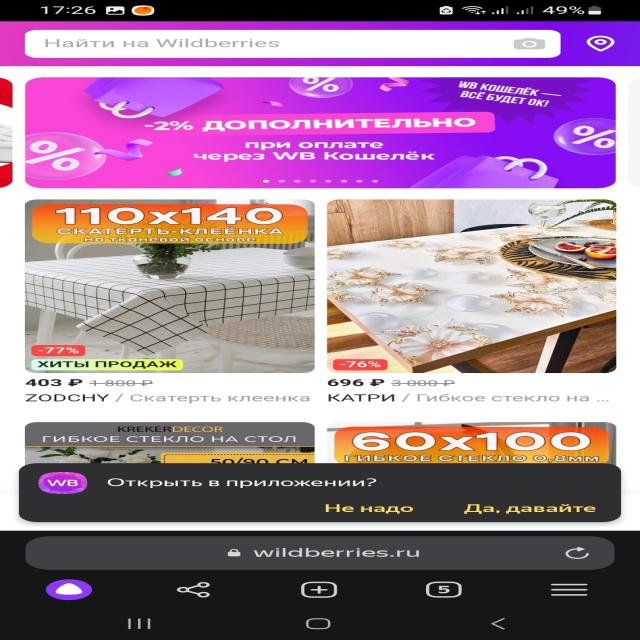button: (452, 495, 610, 518), (305, 497, 430, 518)
system: (16, 465, 624, 524)
